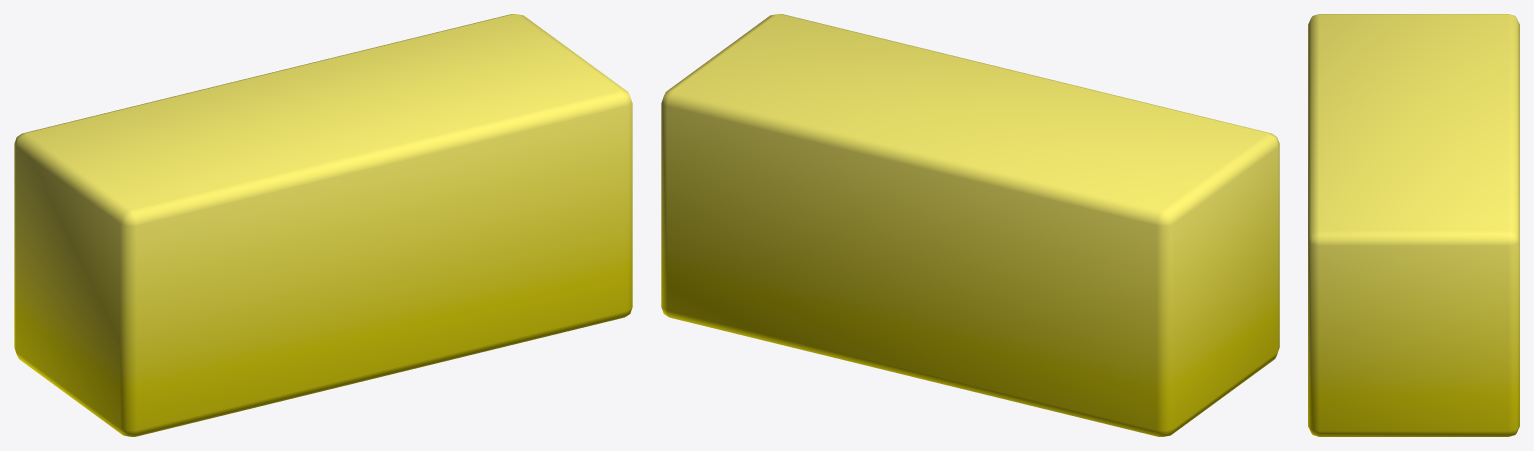
The model's file is Butter.fbx.
The picture shows the model from 3 angles, left to right: view 1: azimuth 30°, elevation 25°; view 2: azimuth 150°, elevation 25°; view 3: azimuth 270°, elevation 25°; orthographic projection. The views are drawn at different scales.
Visible parts, largest first — view 1: Butter; view 2: Butter; view 3: Butter.
Part boxes in pixels (bbox=[...]): Butter: bbox=[14, 14, 632, 436]; Butter: bbox=[661, 14, 1279, 436]; Butter: bbox=[1308, 14, 1519, 436].
Bounding box in the file's own units: 135 × 53.45 × 57.3.
